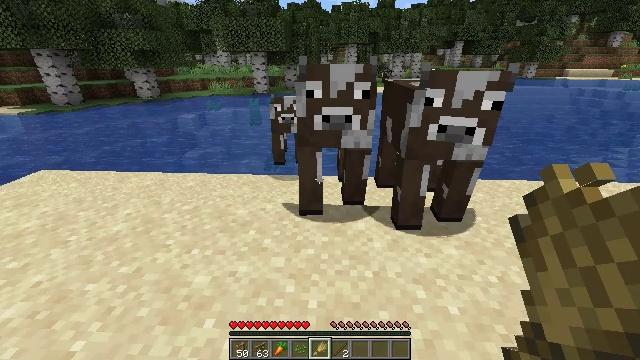cow: (376, 72, 510, 228), (297, 67, 369, 210), (270, 96, 297, 164)
